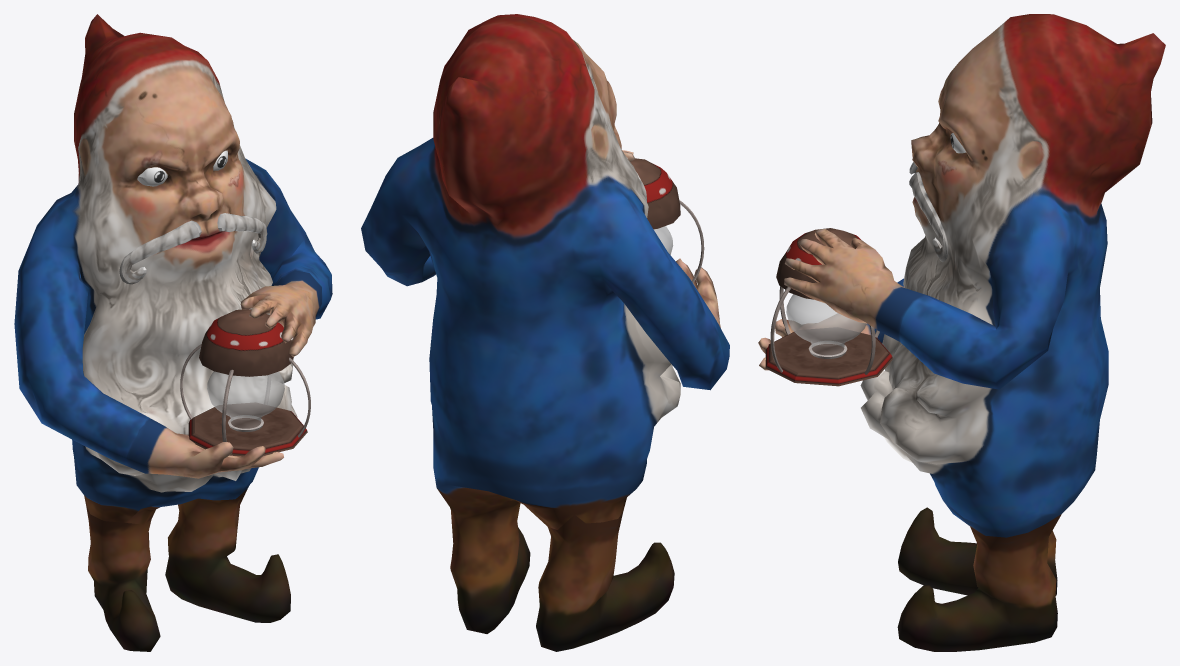
Rendered from gnome_Lvl1_v2.fbx.
3 renders of one model, left to right at view 1: azimuth 30°, elevation 25°; view 2: azimuth 150°, elevation 25°; view 3: azimuth 270°, elevation 25°, orthographic. The views are drawn at different scales.
Visible parts, largest first — view 1: gnome_Lvl1; view 2: gnome_Lvl1; view 3: gnome_Lvl1.
Boxes of the visible parts, <box> form: gnome_Lvl1: <box>14,14,332,651</box>; gnome_Lvl1: <box>361,14,729,651</box>; gnome_Lvl1: <box>758,14,1165,651</box>.
Size of the model in its own units: 15.01 by 26.18 by 16.18.
